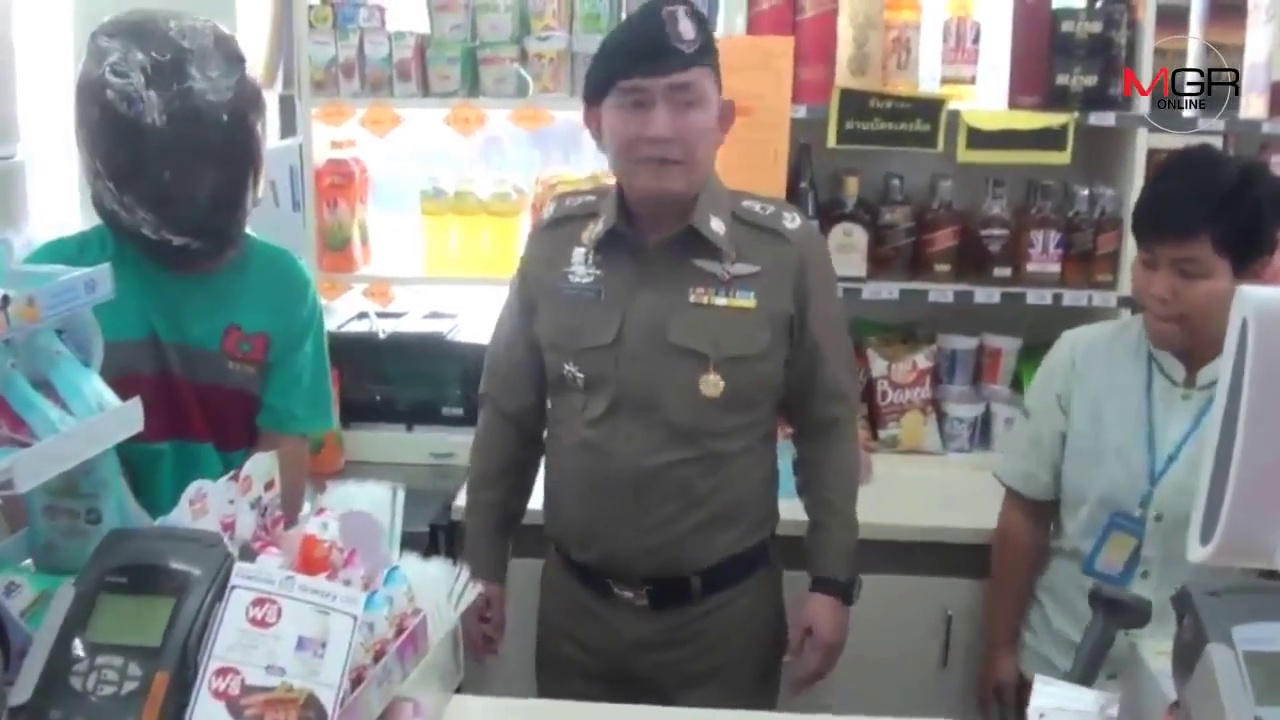helmet: (73, 8, 272, 261)
